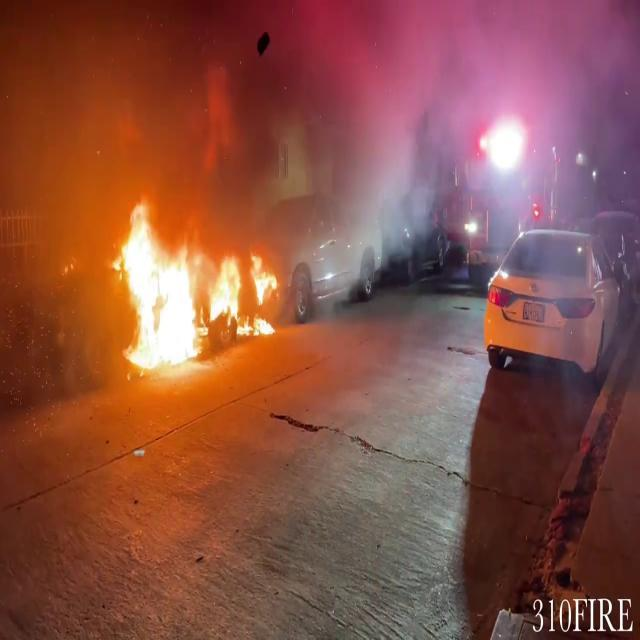Fire: (103, 198, 279, 374)
Smoke: (7, 0, 470, 256)
